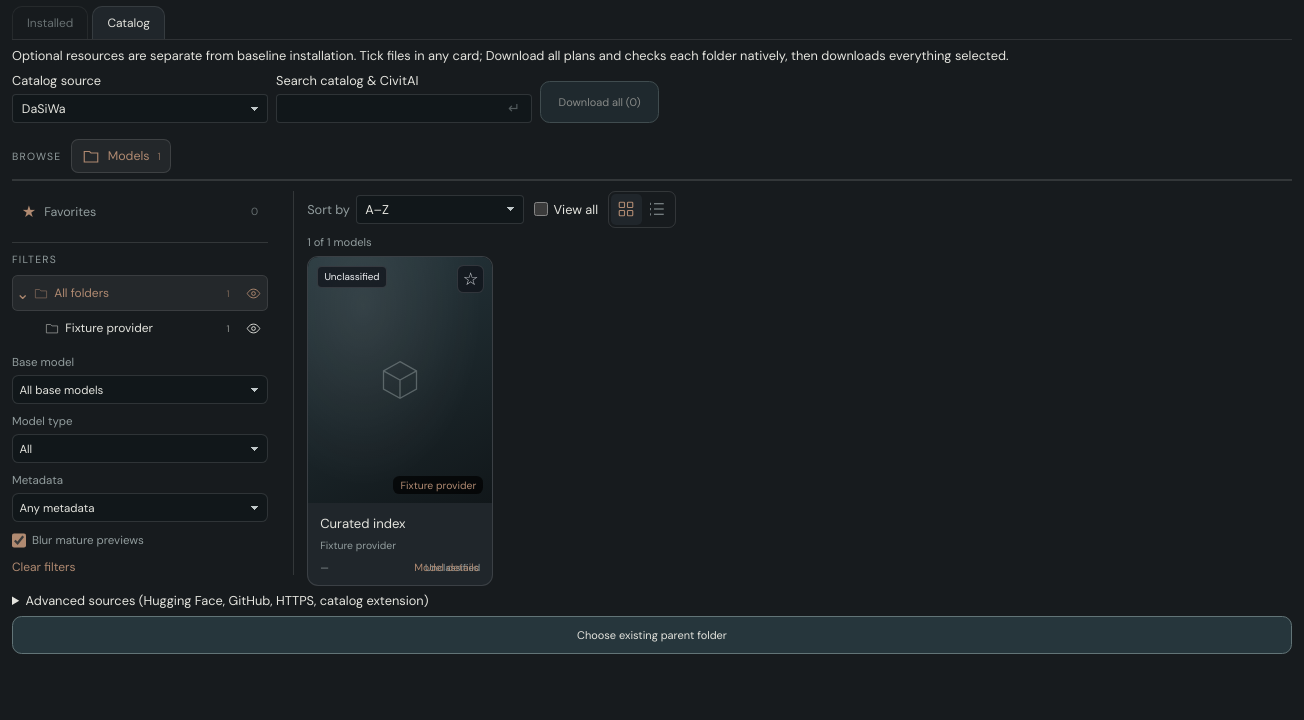
Test case: returns from provider search to bundled cards without a request or stale query
Type "absent" into the field labelled "Search catalog & CivitAI". click: (404, 109)
box: 276,94 -> 532,123
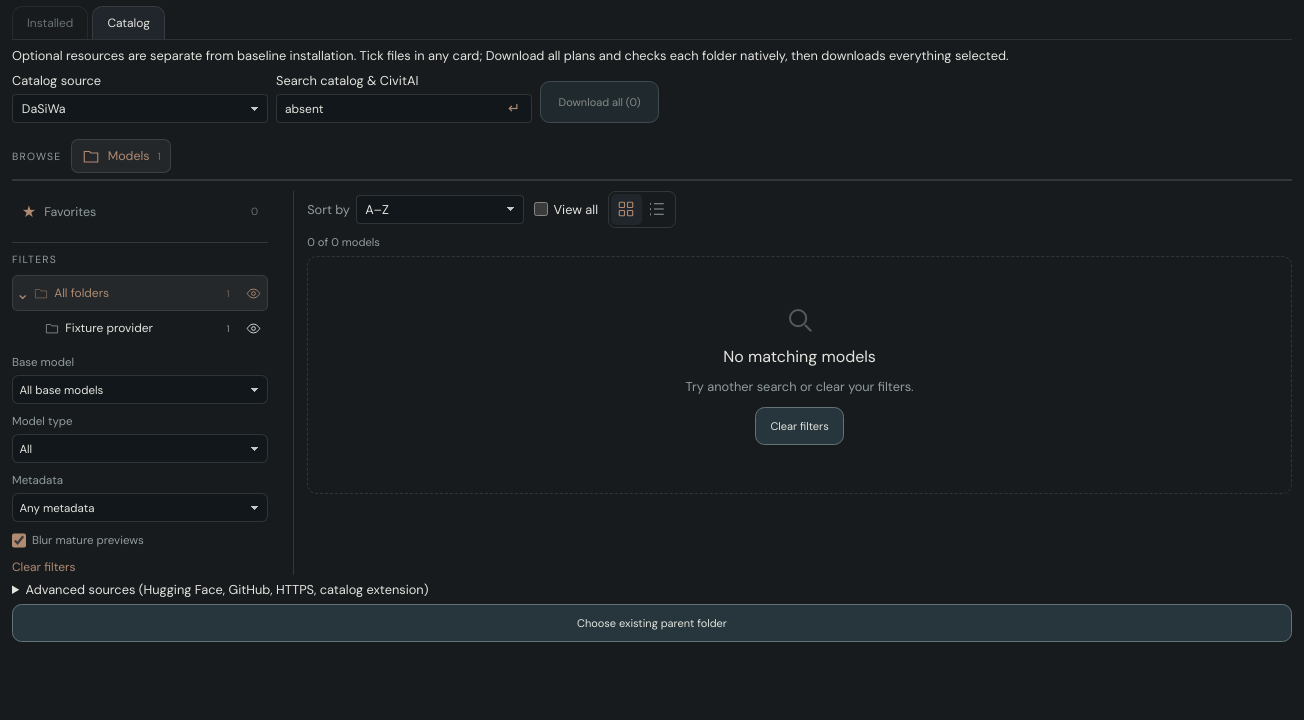
Click the button named "Search". click: click(514, 109)
box: 498,96 -> 530,121
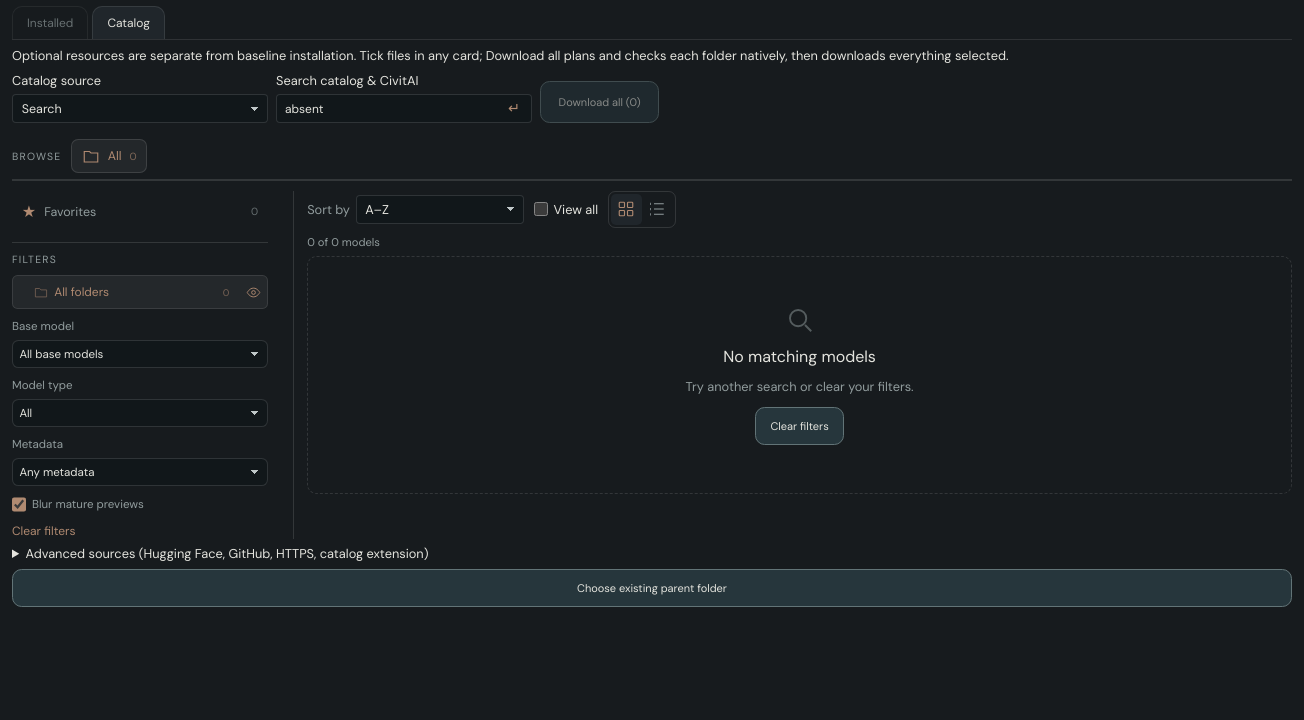
Select "DaSiWa" in the dropdown labelled "Catalog source". click: (140, 109)
box: 12,94 -> 268,123
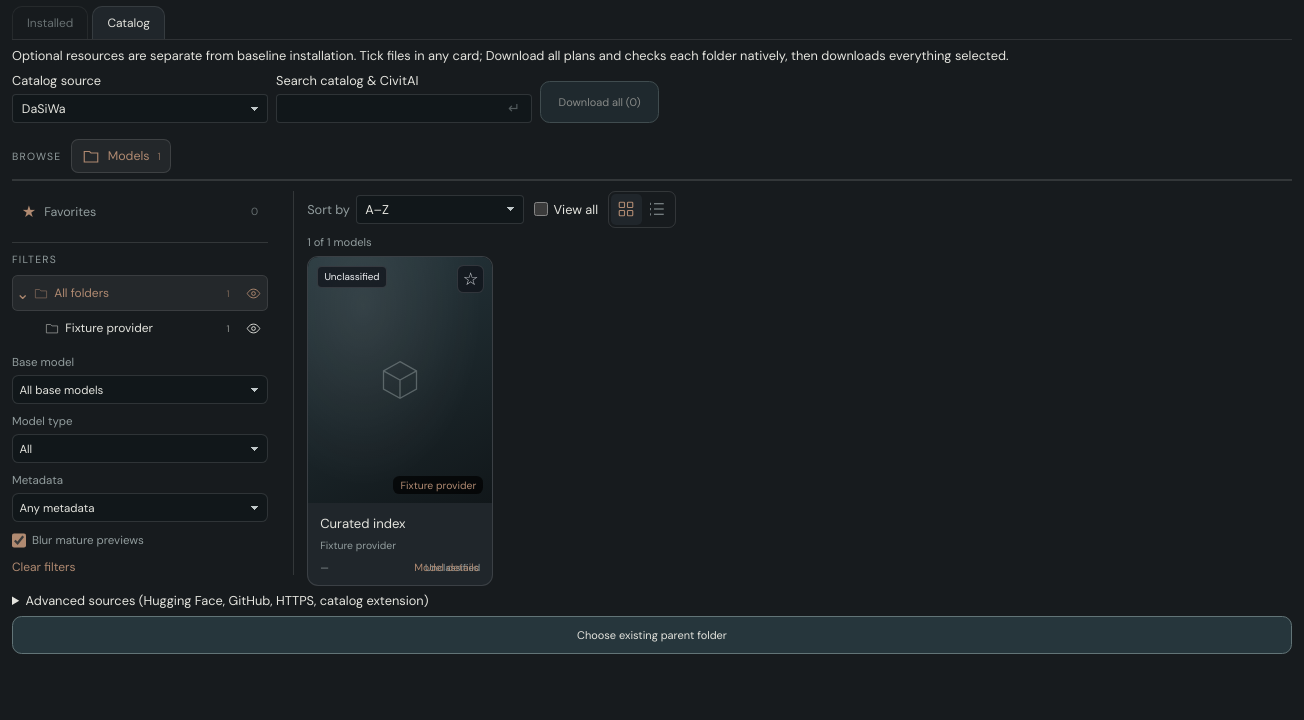
Expected: the button "Curated index" is shown, 308,257 -> 492,585
Expected: the field labelled "Search catalog & CivitAI" is empty, 276,94 -> 532,123
